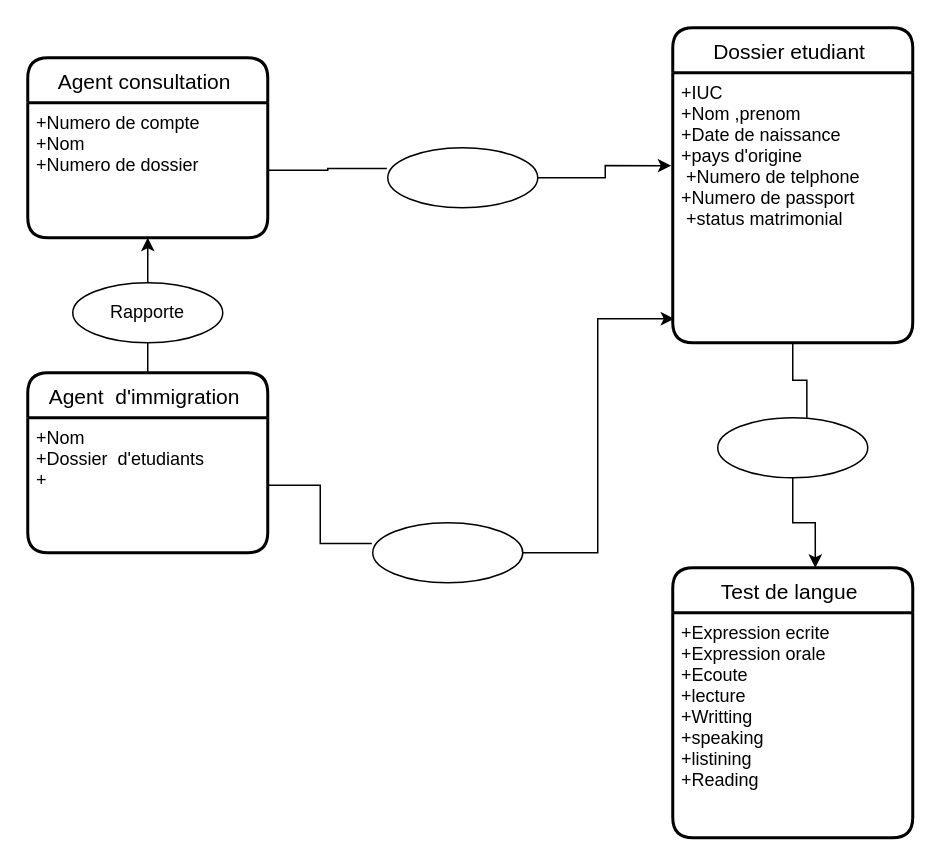
Some shapes in this 939 by 864 pixel diagram are drawn without their labels. The centre of each missing label's shape, as x and y in pixels:
"Compose" goes at pixel 792 447.
"Consulte" goes at pixel 447 552.
"Examine" goes at pixel 462 177.
